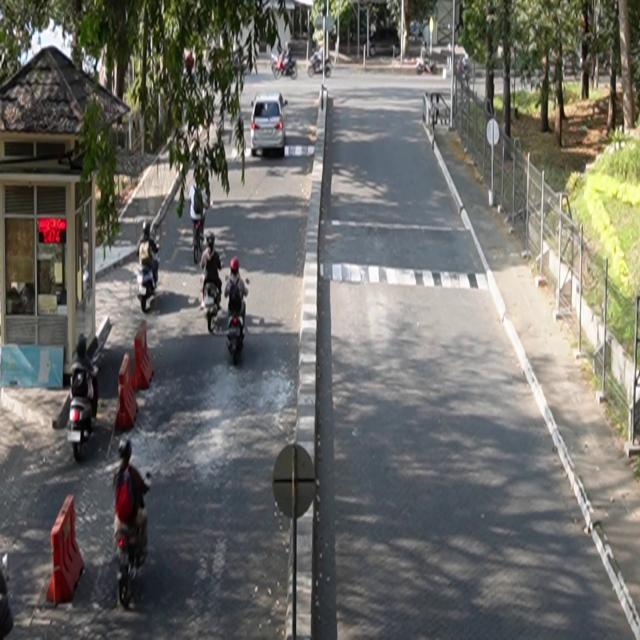car: (251, 92, 288, 158)
